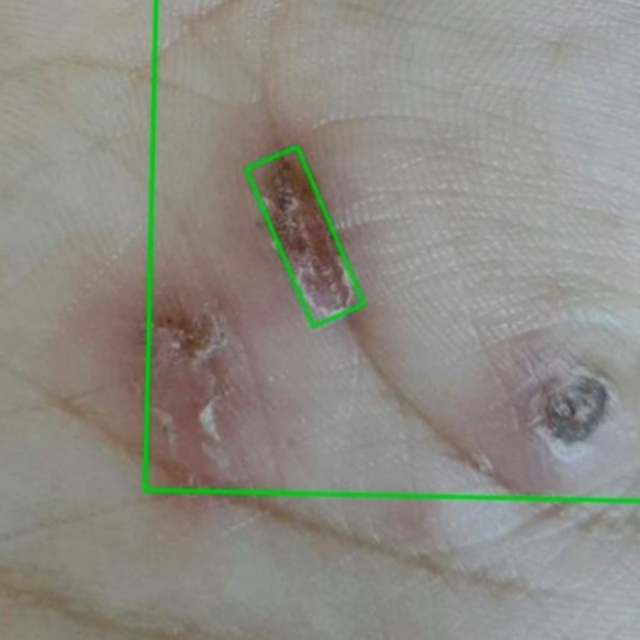Scabies: (145, 0, 639, 500), (245, 148, 363, 327)
